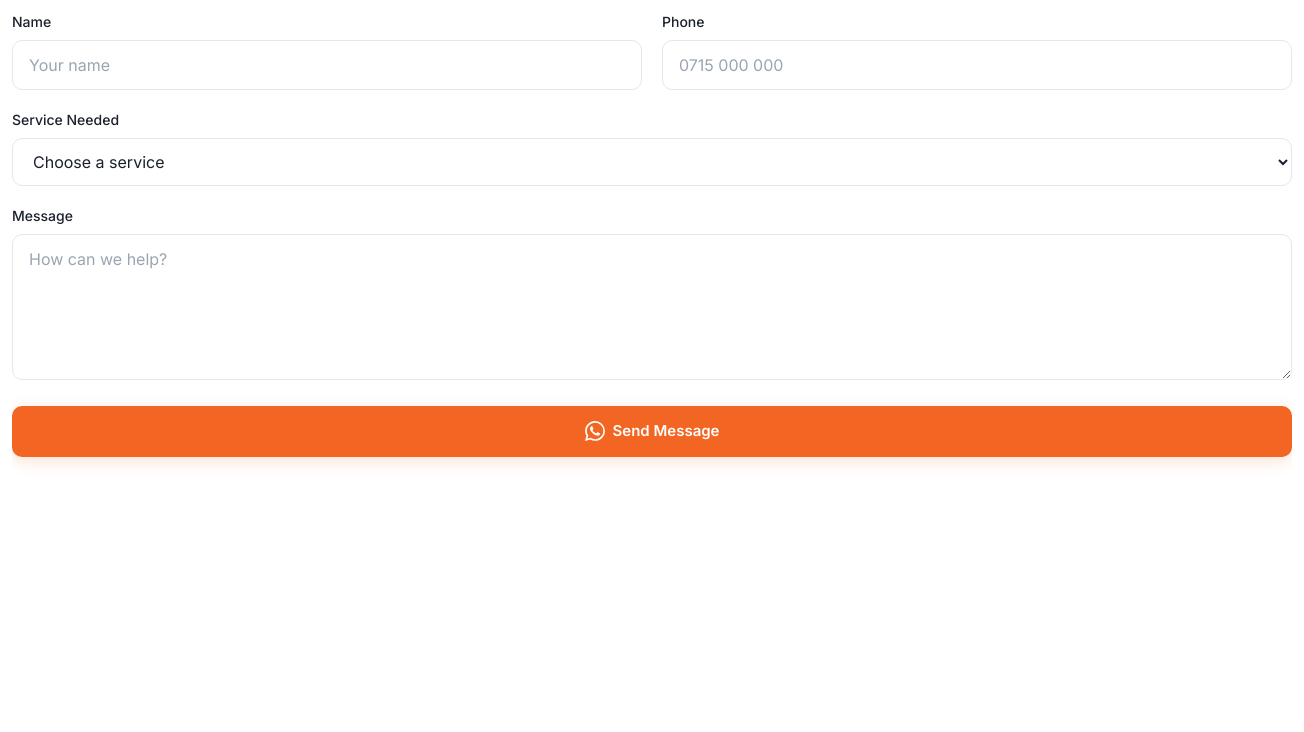
Scenario: ContactForm › shows validation errors for an invalid submission
The image size is (1304, 732).
Click the button "Send Message".
click(652, 431)  # box 12,406 -> 1292,456
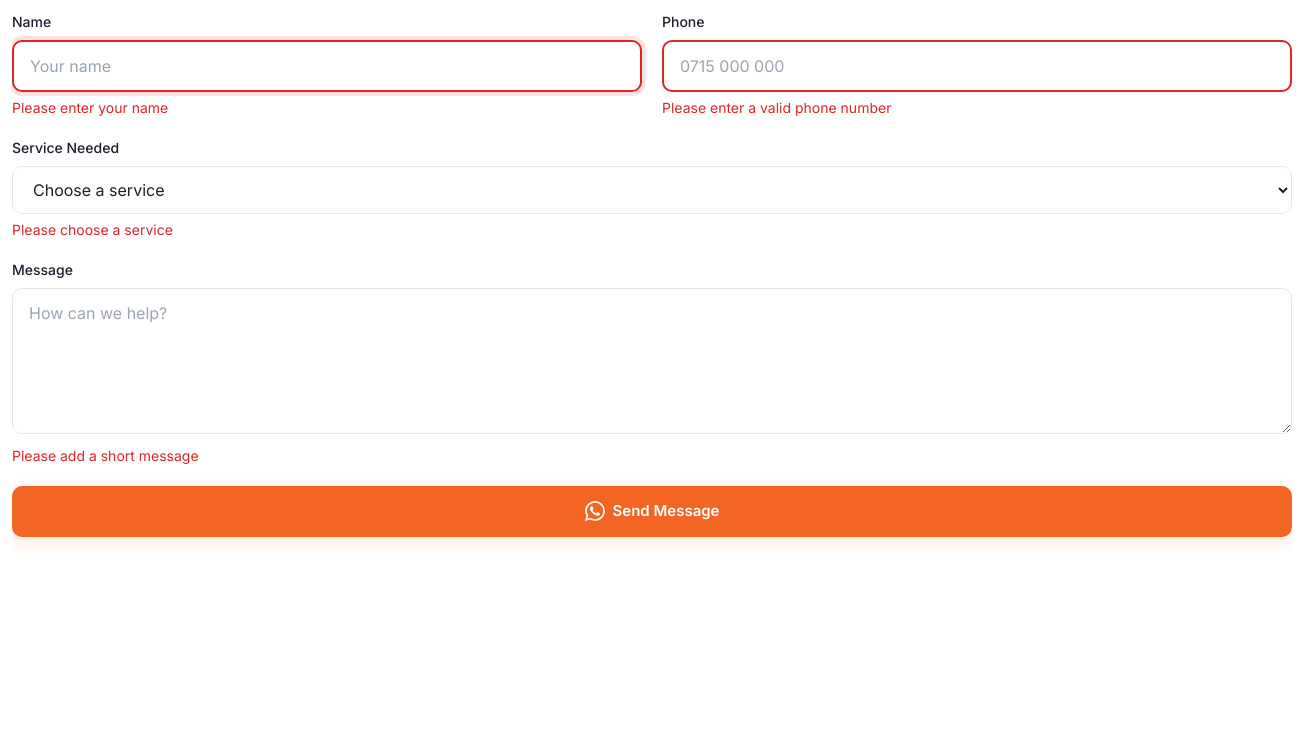
Expected: the text "Please enter your name" is shown, 12,99 -> 168,116
Expected: the text "Please enter a valid phone number" is shown, 662,99 -> 891,116
Expected: the text "Please choose a service" is shown, 12,221 -> 173,238
